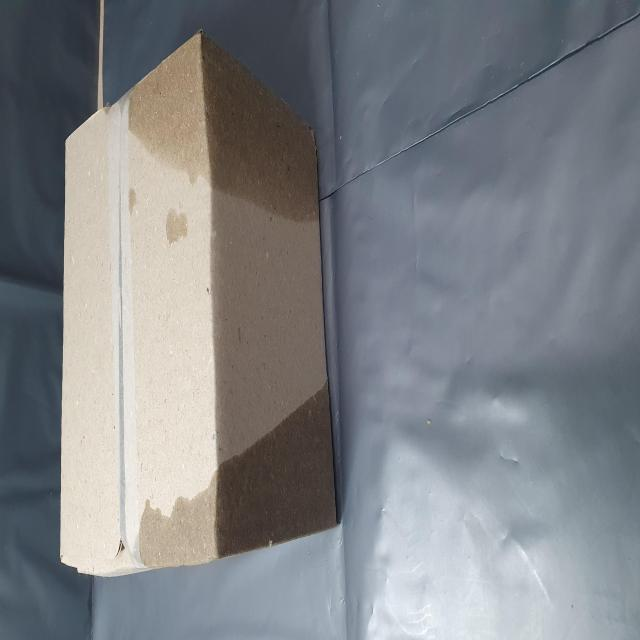wet: (36, 248, 141, 597), (250, 237, 341, 571)
